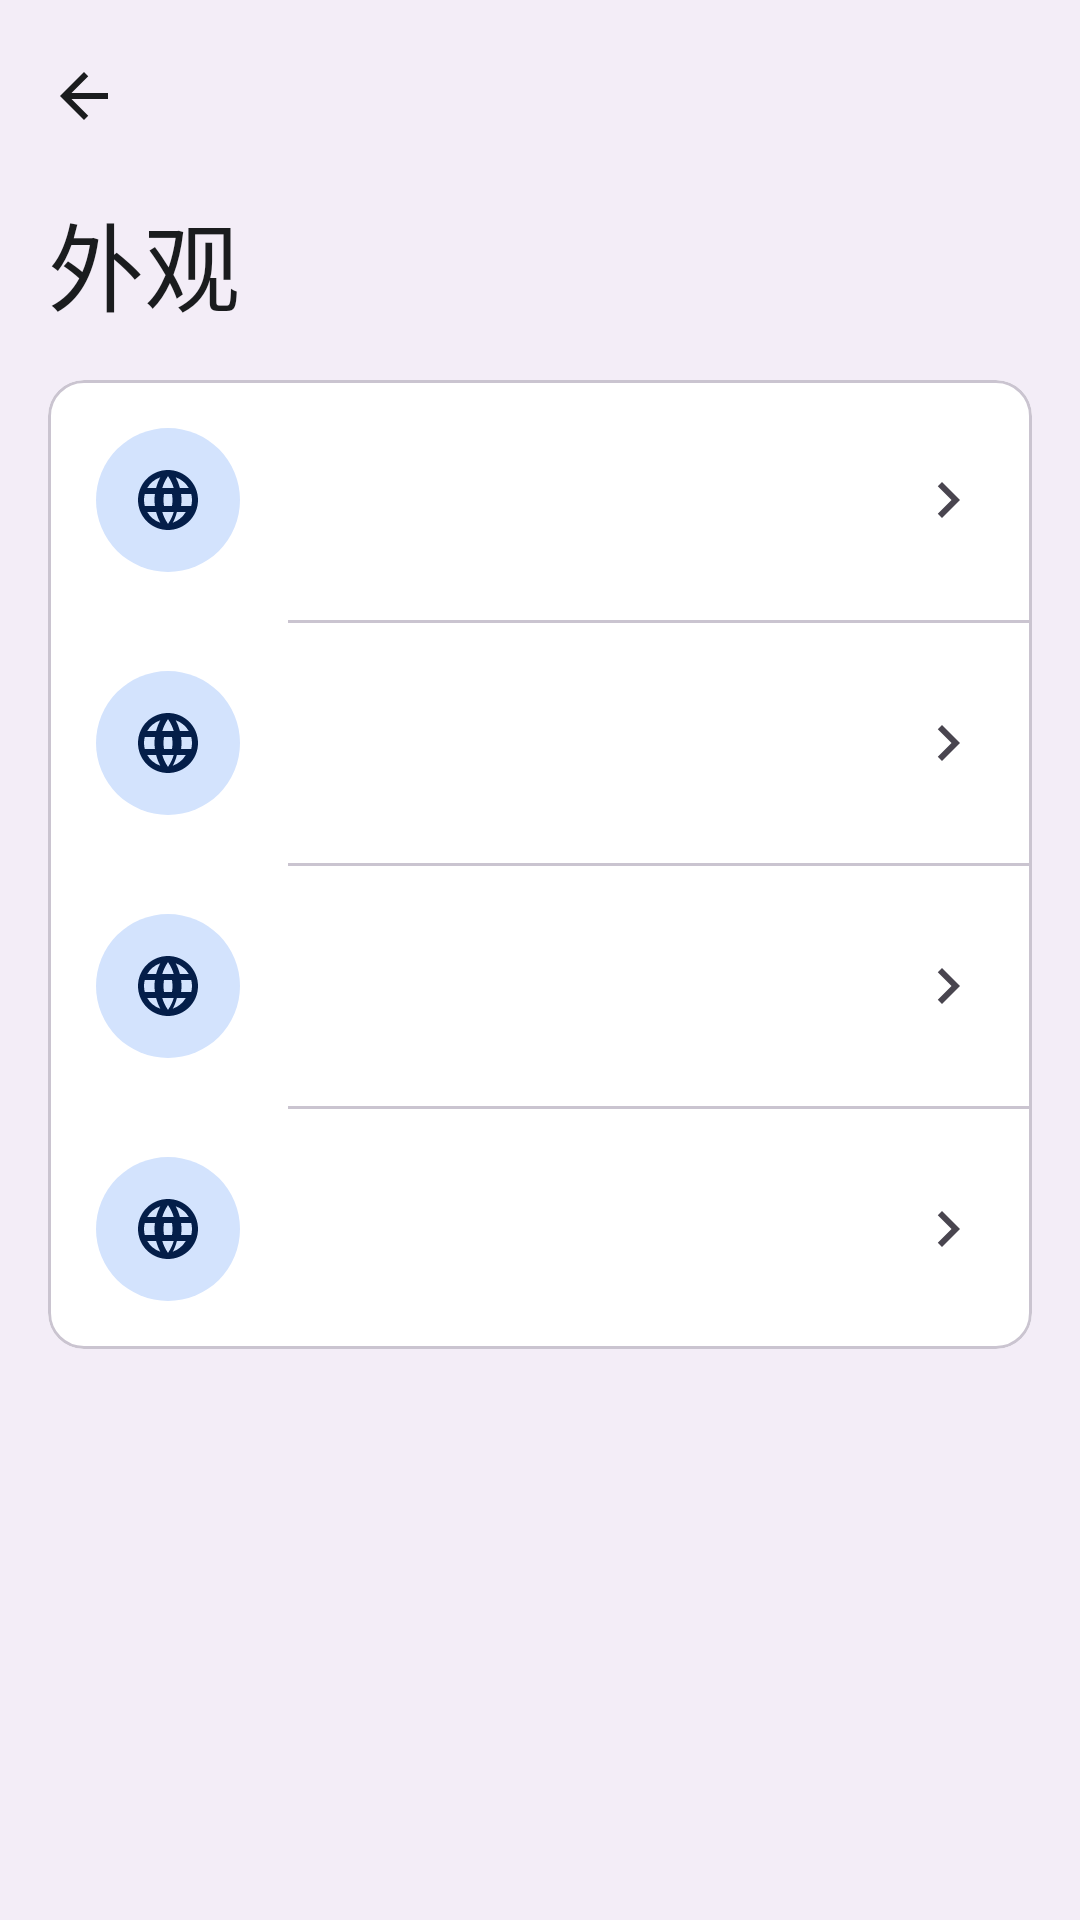

Icon click points for this 1080px x 1920px phone screenshot, format [x,y]:
chevron right: [949,500], [949,743], [949,986], [949,1229]
language: [168,500], [168,743], [168,986], [168,1229]
